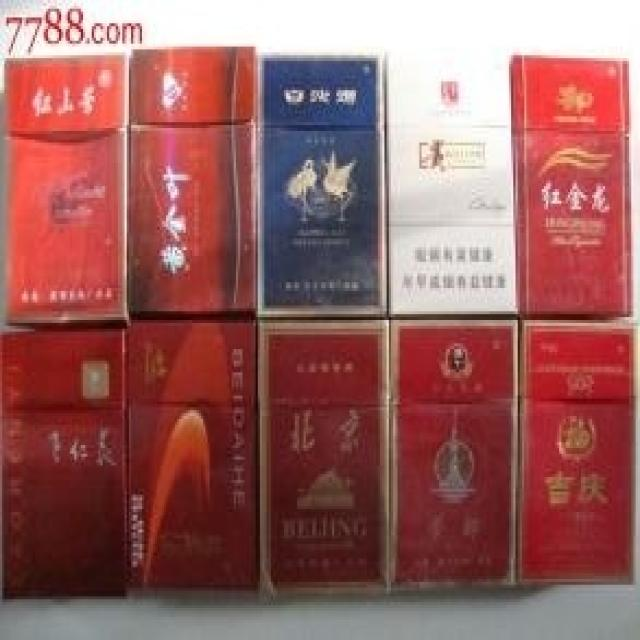box: (127, 314, 258, 593), (258, 317, 389, 596), (389, 314, 518, 596), (384, 52, 518, 320), (256, 52, 387, 317), (127, 49, 256, 317), (0, 326, 127, 596), (518, 317, 638, 588), (511, 52, 631, 317)
